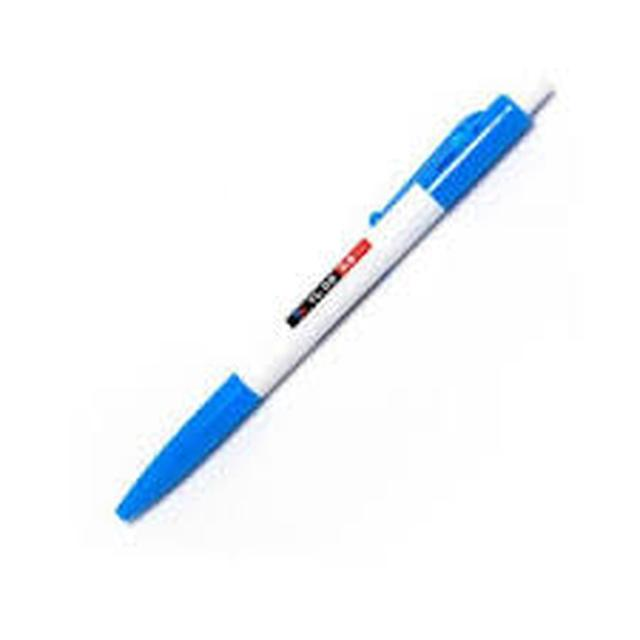pen: (78, 42, 591, 540)
